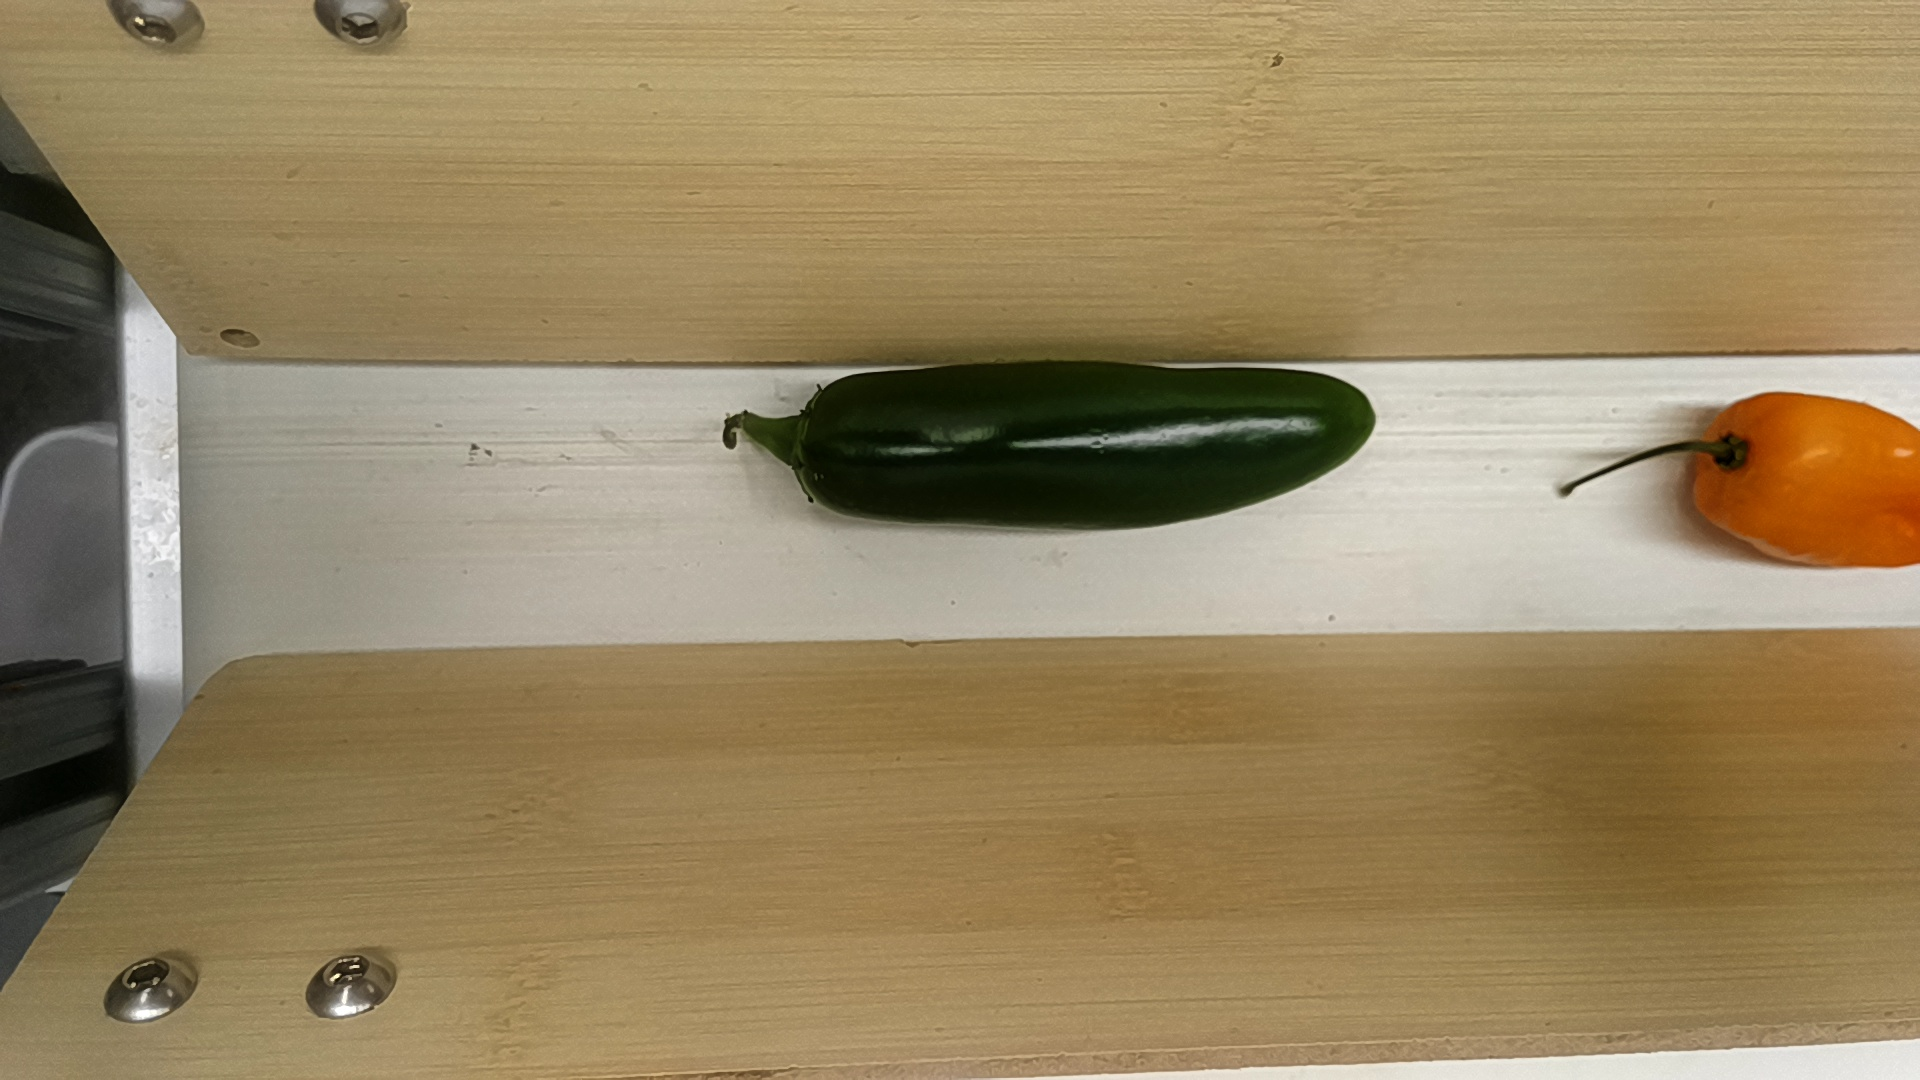Cut Point: (779, 375, 847, 525), (1717, 386, 1764, 559)
